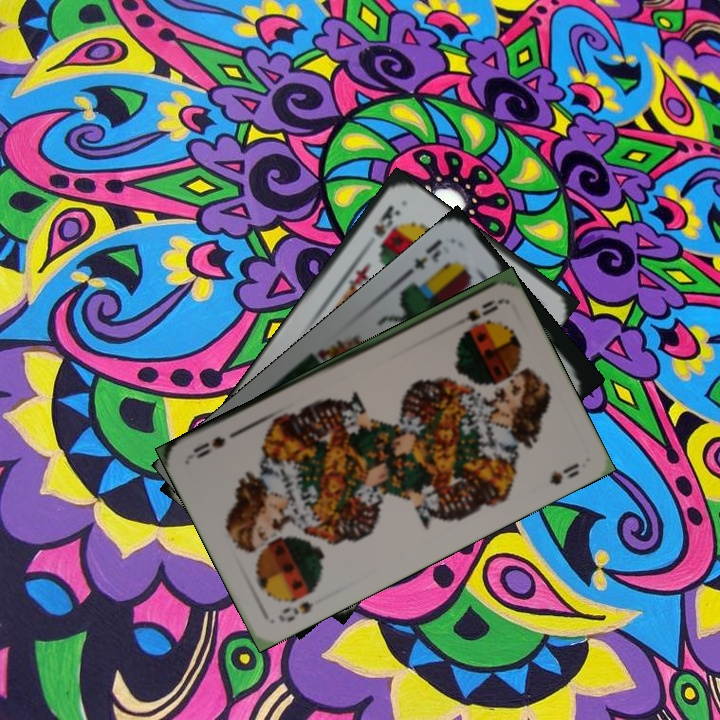EK: (402, 235, 445, 278)
SK: (369, 201, 403, 240)
SO: (446, 295, 502, 332), (274, 597, 317, 625)
